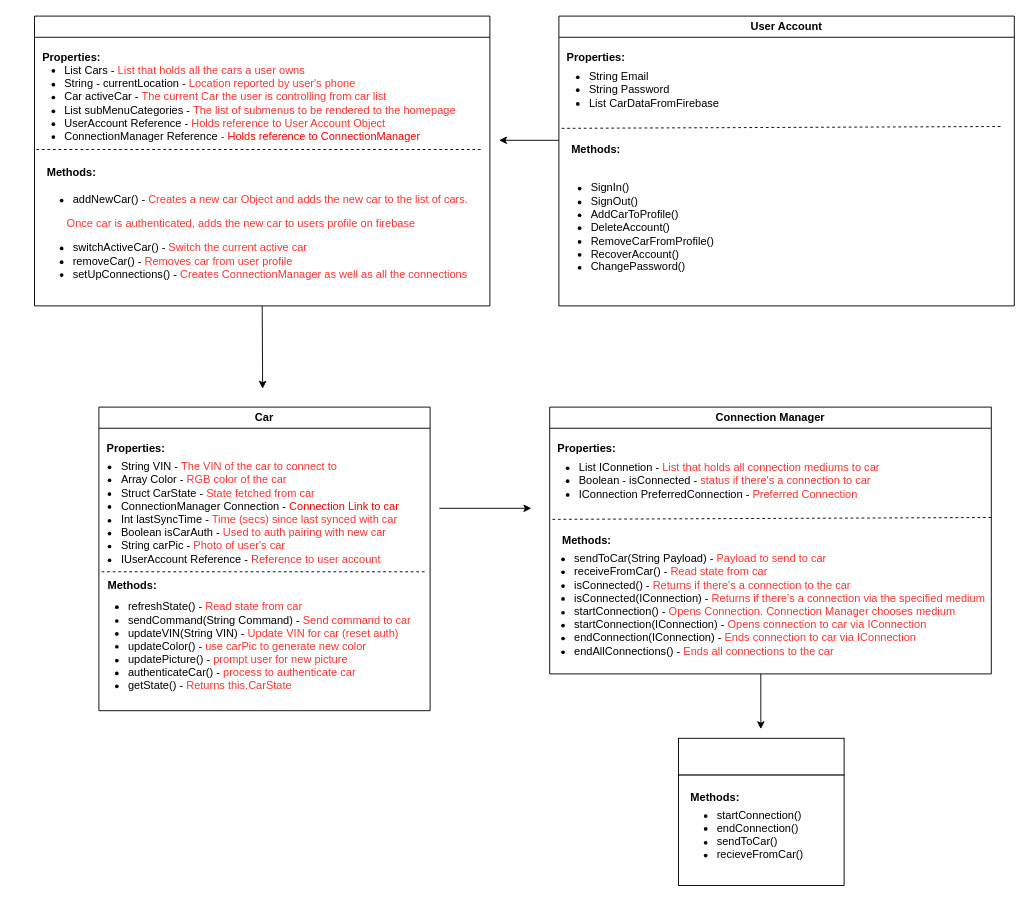
The diagram is 1030 pixels wide and 902 high, and some of its shapes have lost their labels. The shapes that lost their labels are listed below. From the top down, each one's box as (x1, y1, x2, y2) in pixels, then its label:
(34, 15, 490, 306): Dashboard
(678, 737, 844, 775): «interface» IConnection
